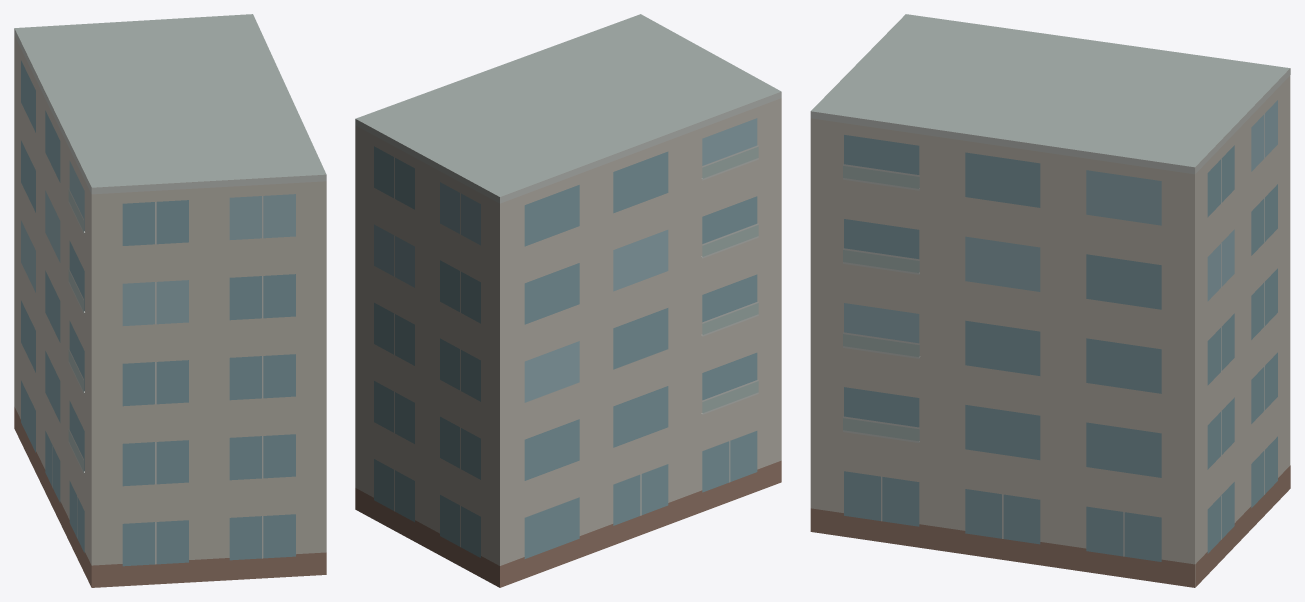
File: survey-upis-32851049.glb
The picture shows the model from 3 angles, left to right: view 1: azimuth 30°, elevation 25°; view 2: azimuth 150°, elevation 25°; view 3: azimuth 270°, elevation 25°; orthographic projection. The views are drawn at different scales.
Visible parts, largest first — view 1: survey-upis-32851049.tmp; view 2: survey-upis-32851049.tmp; view 3: survey-upis-32851049.tmp.
Boxes of the visible parts, <box> form: survey-upis-32851049.tmp: <box>14,14,326,587</box>; survey-upis-32851049.tmp: <box>355,14,781,587</box>; survey-upis-32851049.tmp: <box>810,14,1290,587</box>.
Size of the model in its own units: 11.43 by 14.6 by 15.1.
